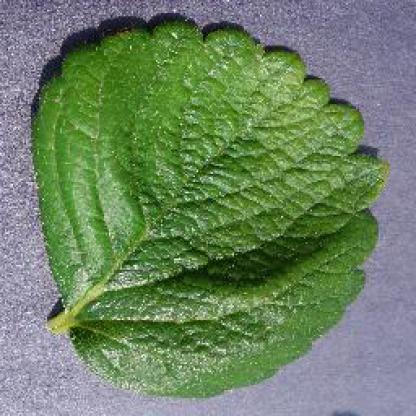healthy: (16, 12, 400, 404)
